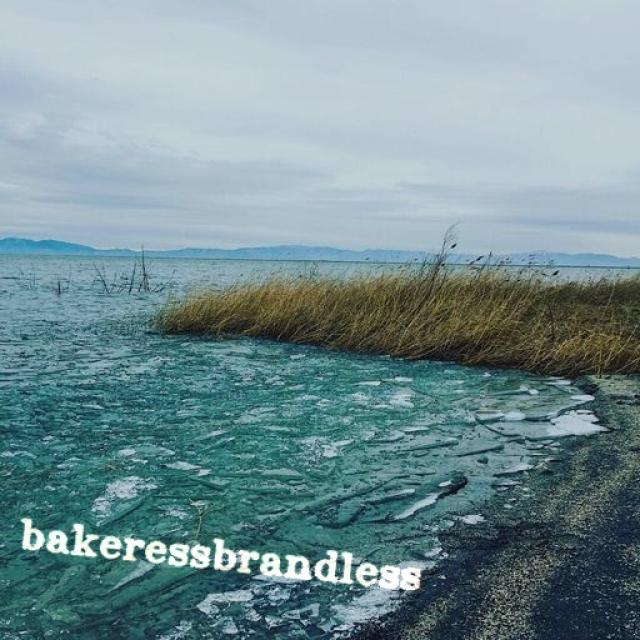watermark: (8, 517, 449, 596)
